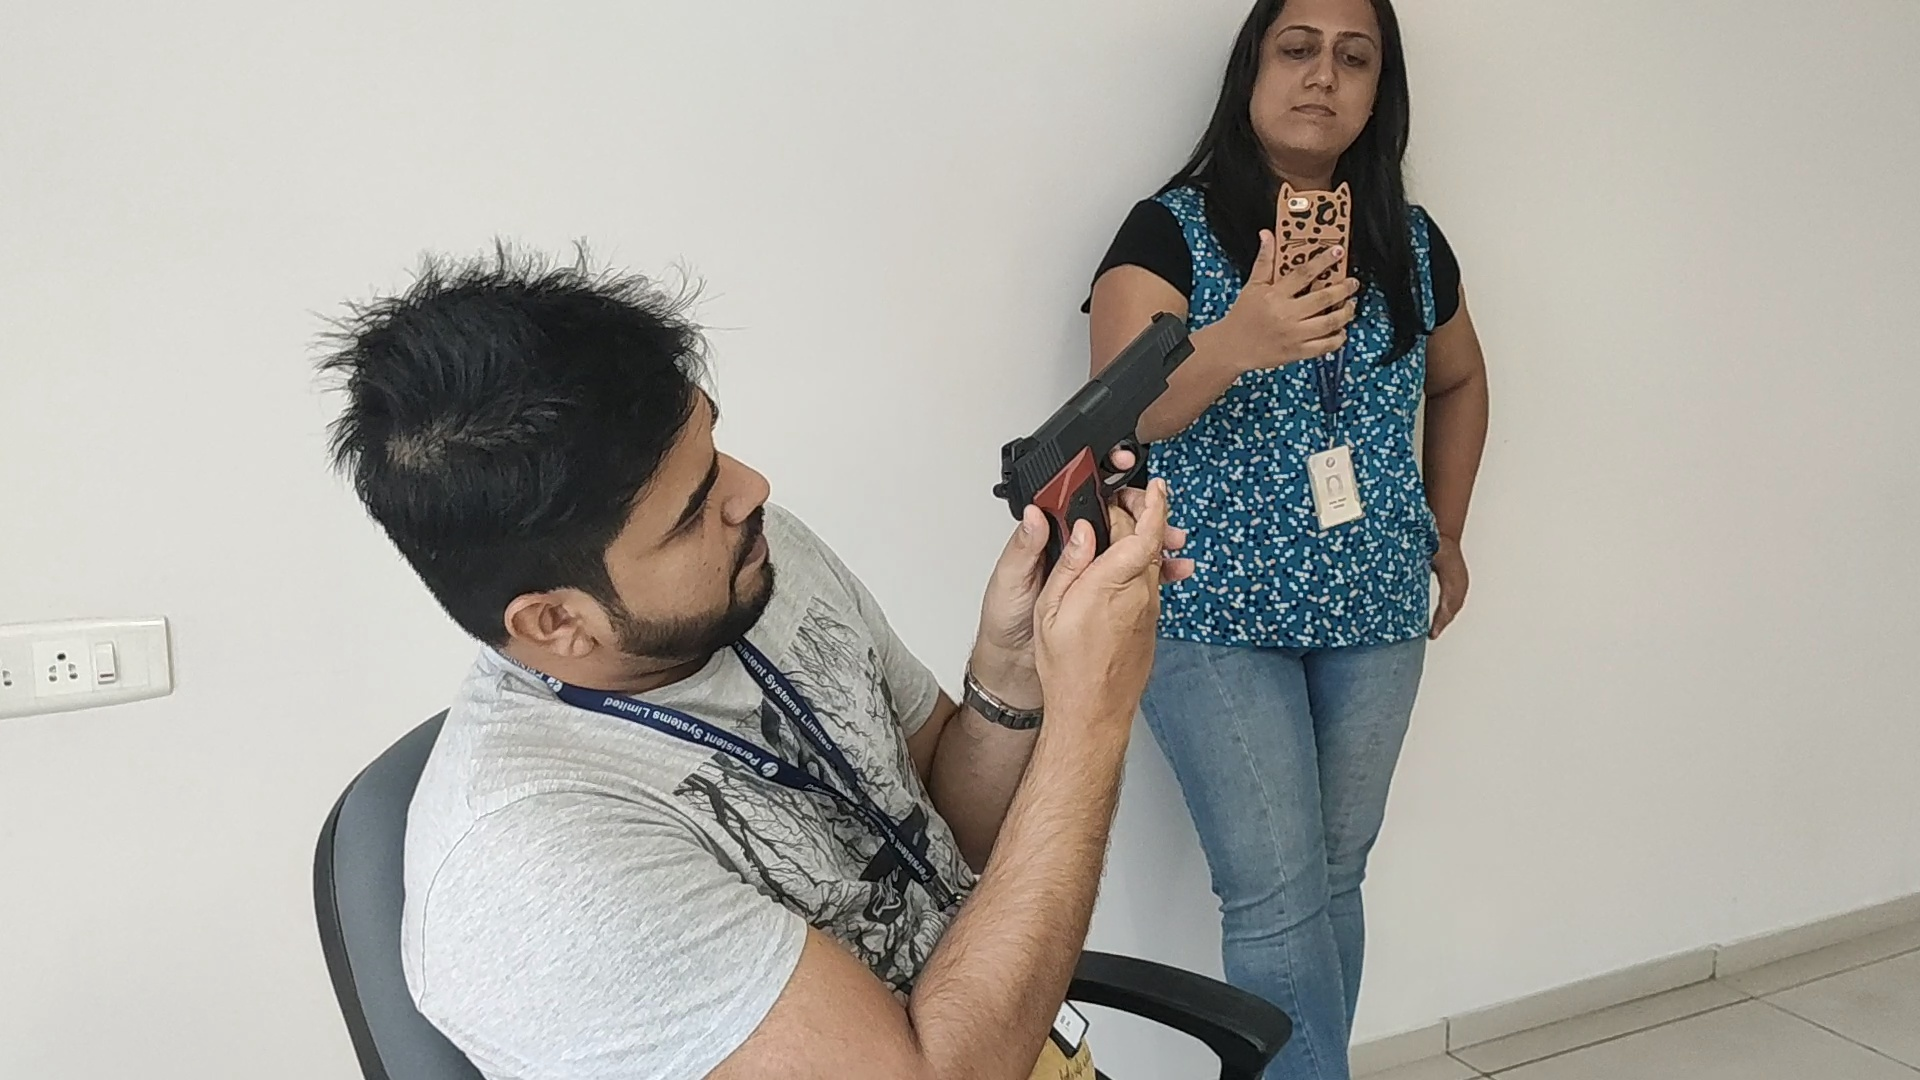gun: (992, 309, 1195, 475)
